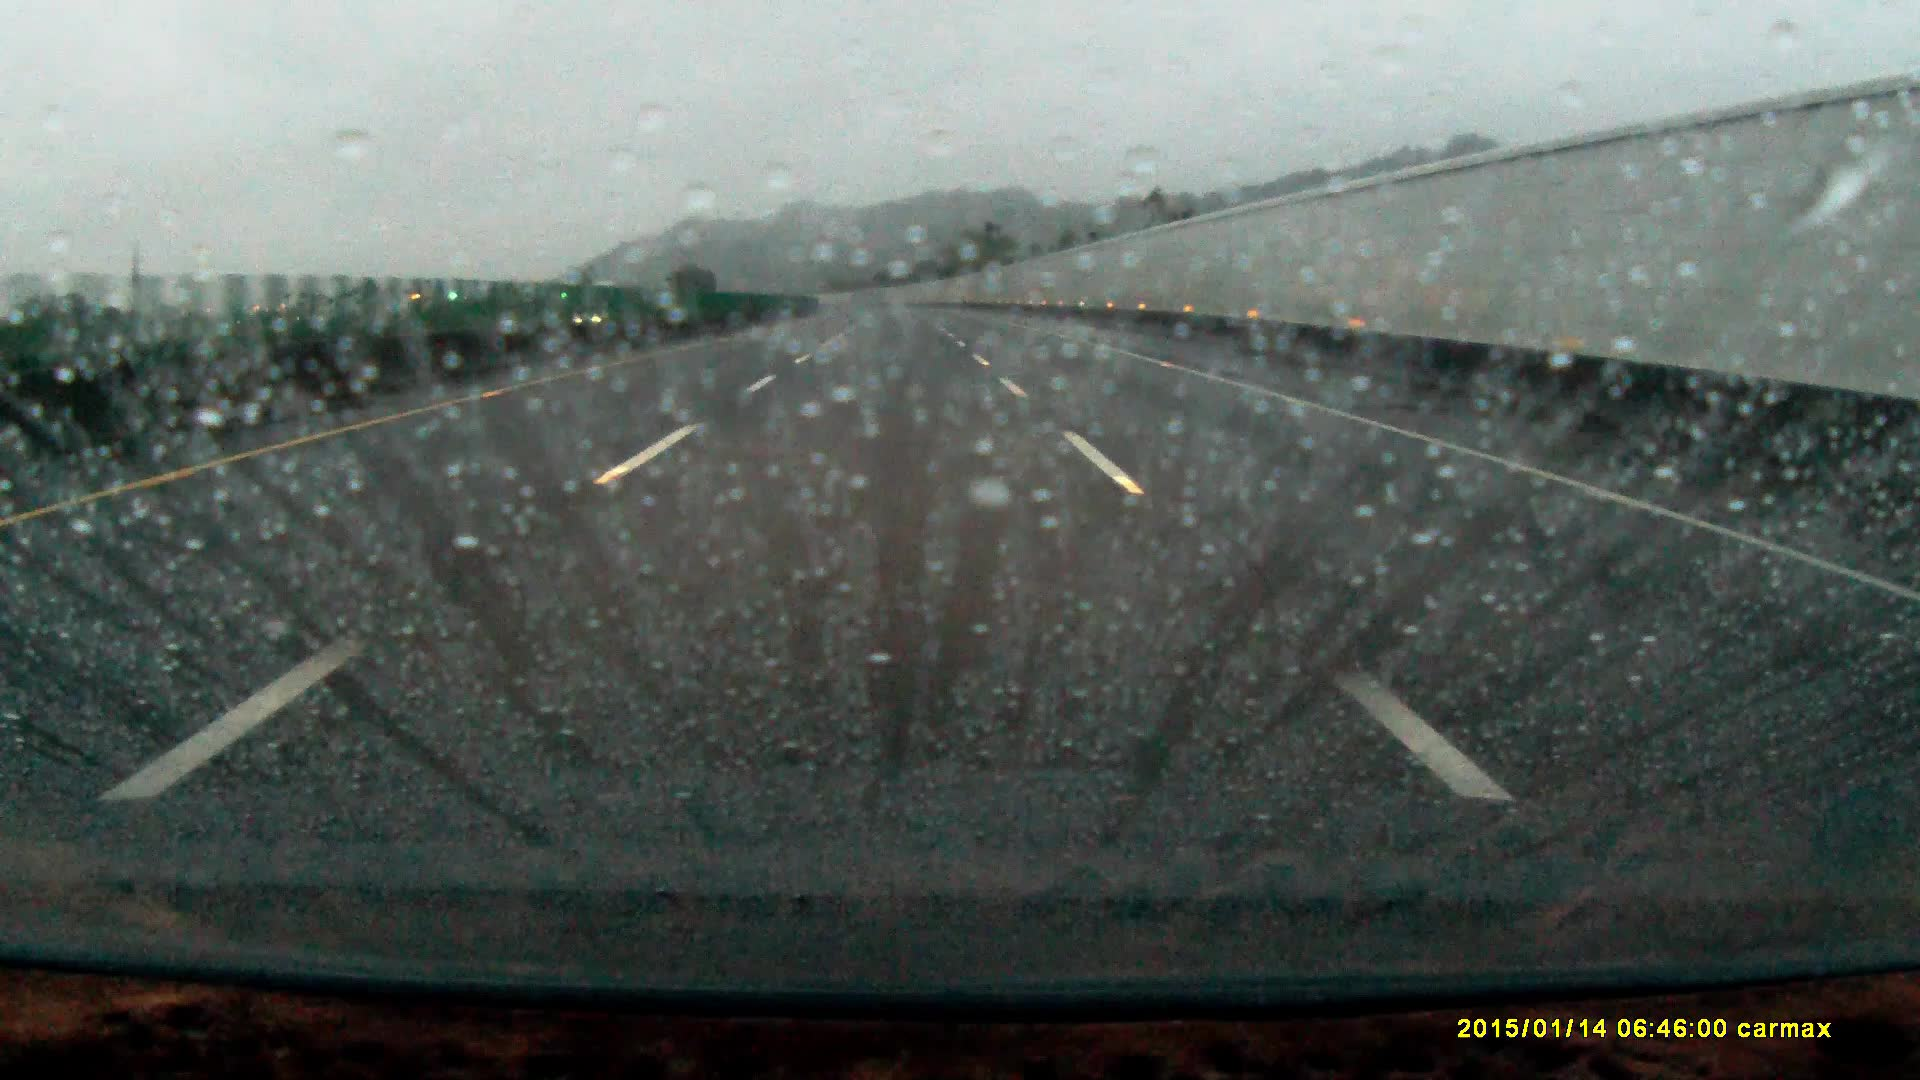vehicle: (568, 297, 618, 328)
